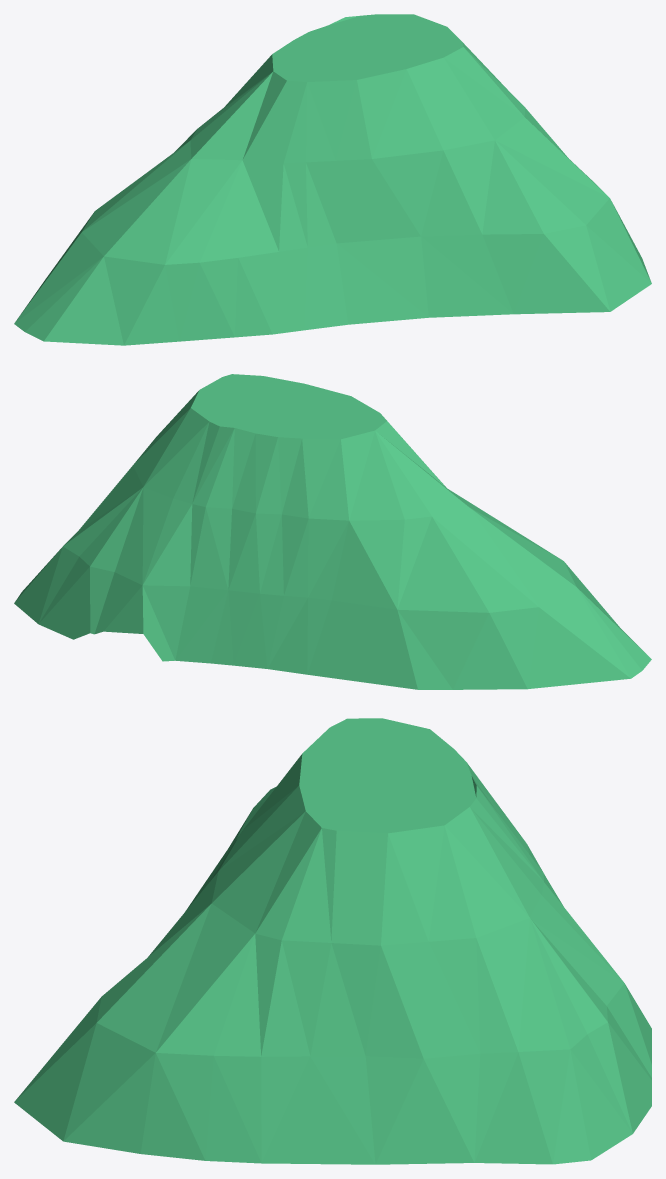
3 renders of one model, top to bottom at view 1: azimuth 30°, elevation 25°; view 2: azimuth 150°, elevation 25°; view 3: azimuth 270°, elevation 25°, orthographic. The views are drawn at different scales.
Parts seen in each view (by area): view 1: 对象022; view 2: 对象022; view 3: 对象022.
Boxes of the visible parts, x1,y1,x2,y2 form: 对象022: [14, 14, 651, 345]; 对象022: [14, 374, 651, 689]; 对象022: [14, 718, 651, 1164].
Bounding box in the file's own units: 18.26 × 6.01 × 13.55.
1 material, 1 textured.
